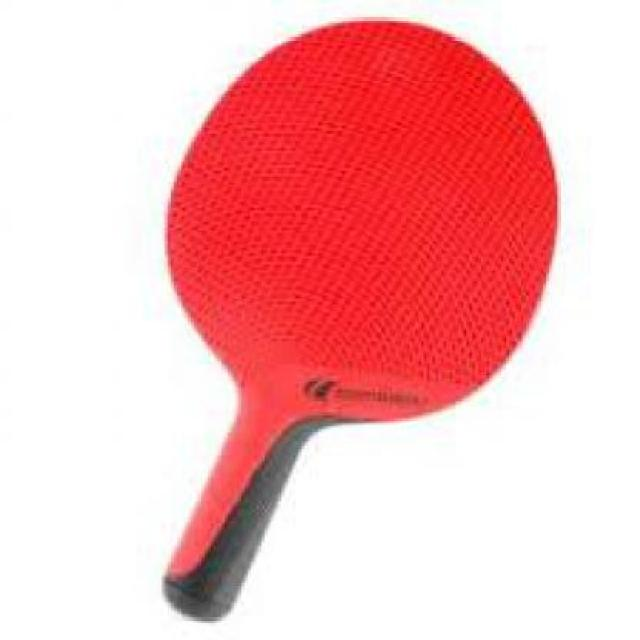table_tennis_racket: (161, 14, 570, 443)
